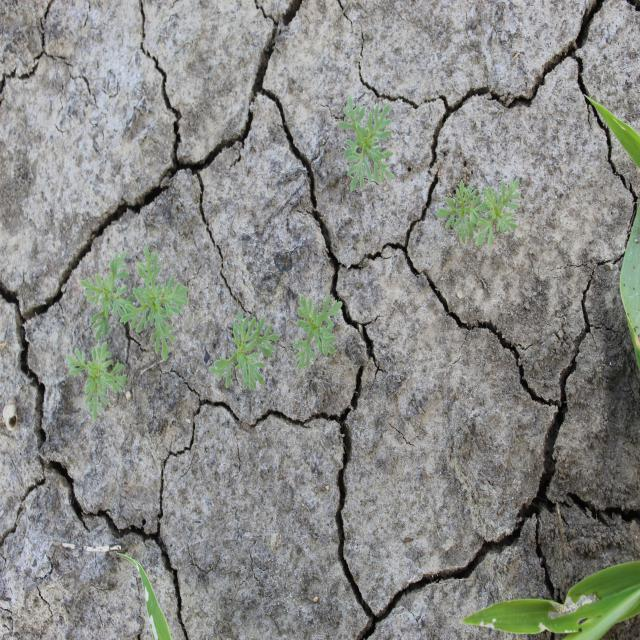Ragweed: (118, 244, 190, 364), (208, 310, 281, 391), (337, 95, 395, 193), (79, 249, 137, 342), (65, 342, 132, 422), (292, 294, 344, 374), (434, 178, 490, 244), (476, 176, 522, 248)
